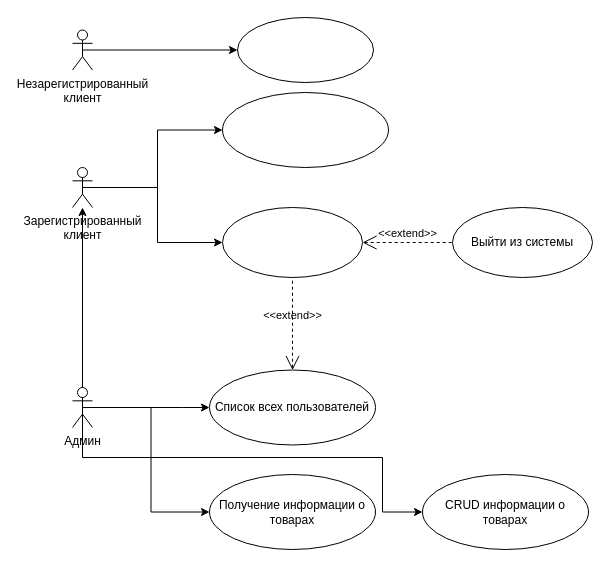
This 610x567 diagram has some shape labels left out. The shapes that lost their labels are listed below. From the top down, each one's centre as x and y in pixels, then its label:
At (x=305, y=49): "Создание аккаунта".
At (x=305, y=130): "Получение информации о товарах(ограничено)".
At (x=292, y=242): "Войти в систему".
